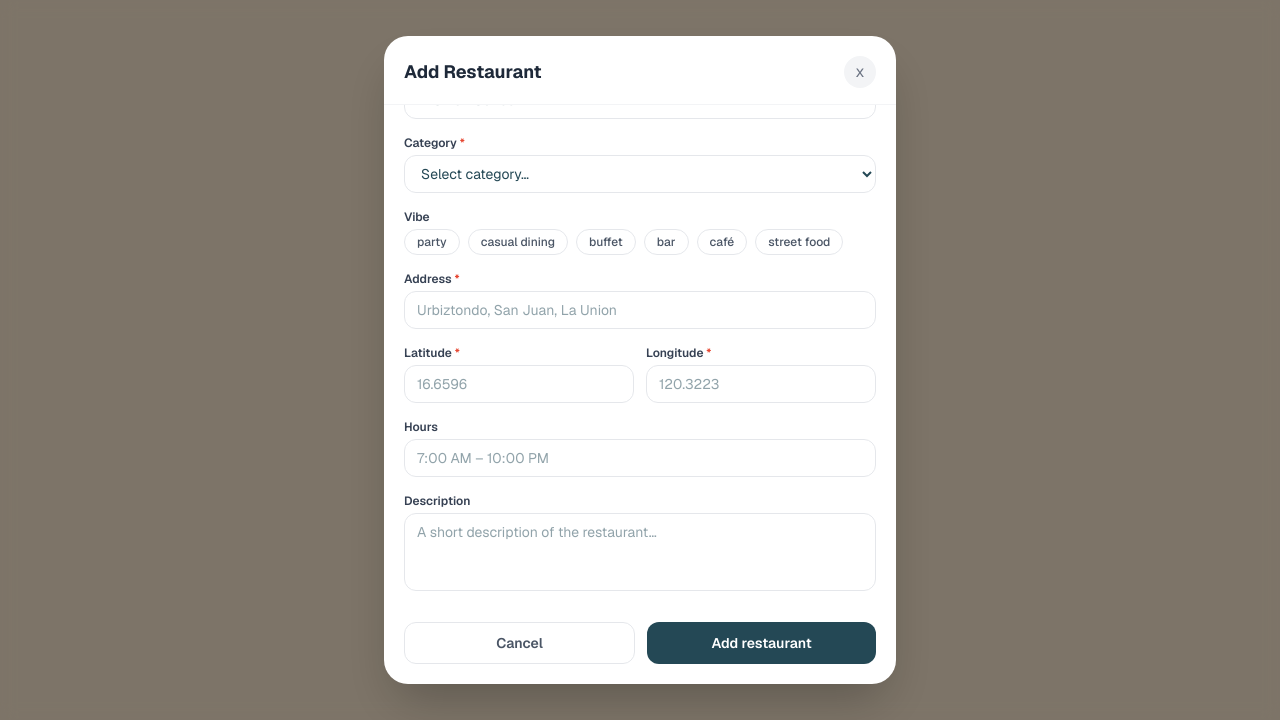
AdminRestaurantModal › [AC-ITINPLAN0306-F14] shows inline error when required fields are missing on submit
(page scrolled)
Click the button "Add restaurant" at (762, 643), box [647, 622, 876, 664]
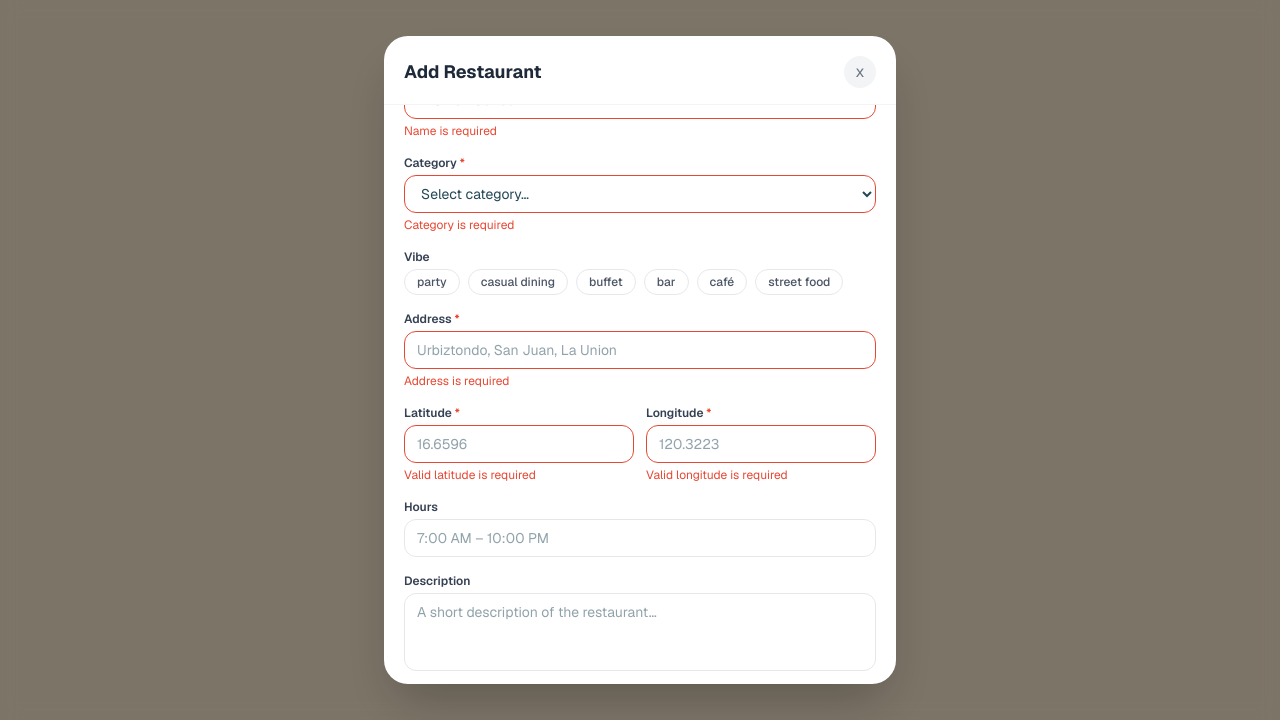
Now the text "Name is required" is shown, box [404, 123, 497, 139]
